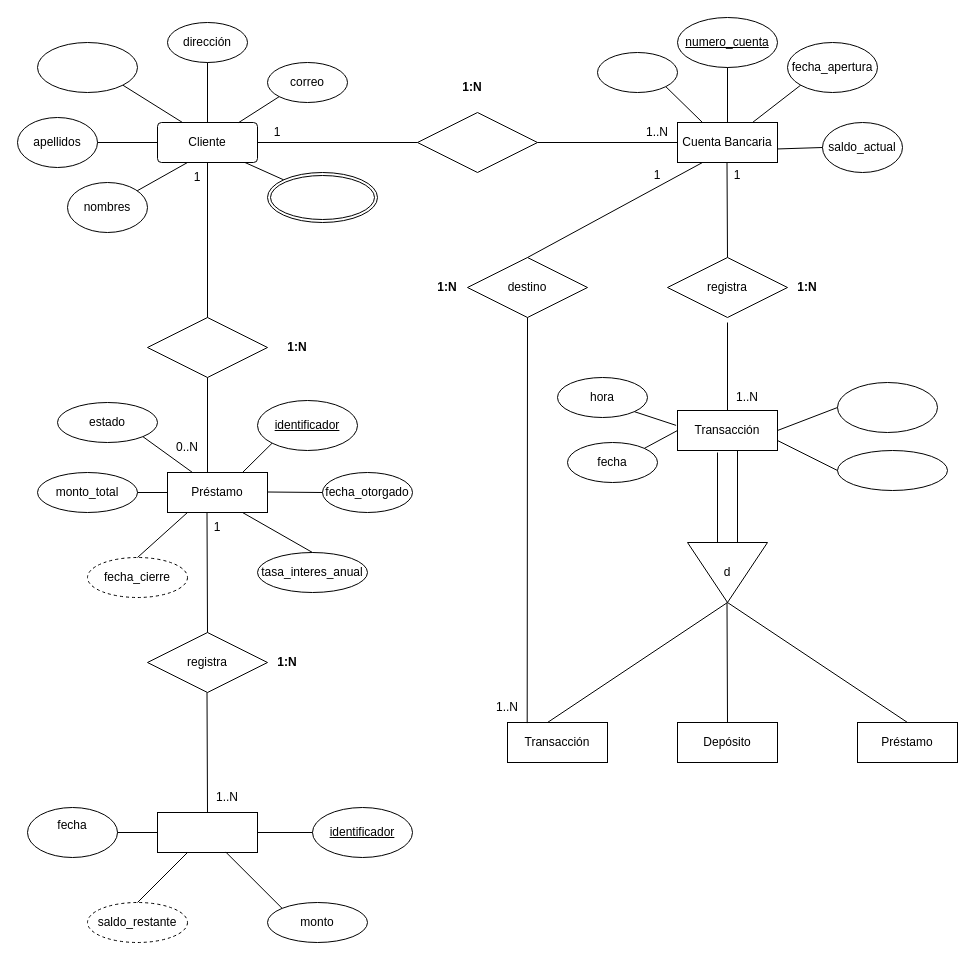
The diagram is 975 pixels wide and 960 high, and some of its shapes have lost their labels. Here are the shapes that lost their labels. From the top down, the centre of each, then its label:
At (x=87, y=67): "identificación".
At (x=637, y=72): "tipo".
At (x=477, y=142): "tiene".
At (x=322, y=197): "numero_telefono".
At (x=207, y=347): "realiza".
At (x=887, y=407): "código_único".
At (x=892, y=470): "monto_involucrado".
At (x=207, y=832): "Pago".
